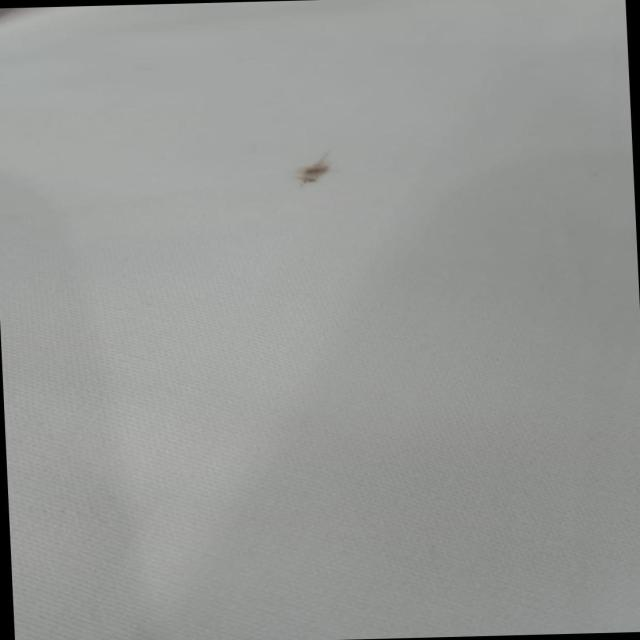stain: (280, 147, 348, 194)
